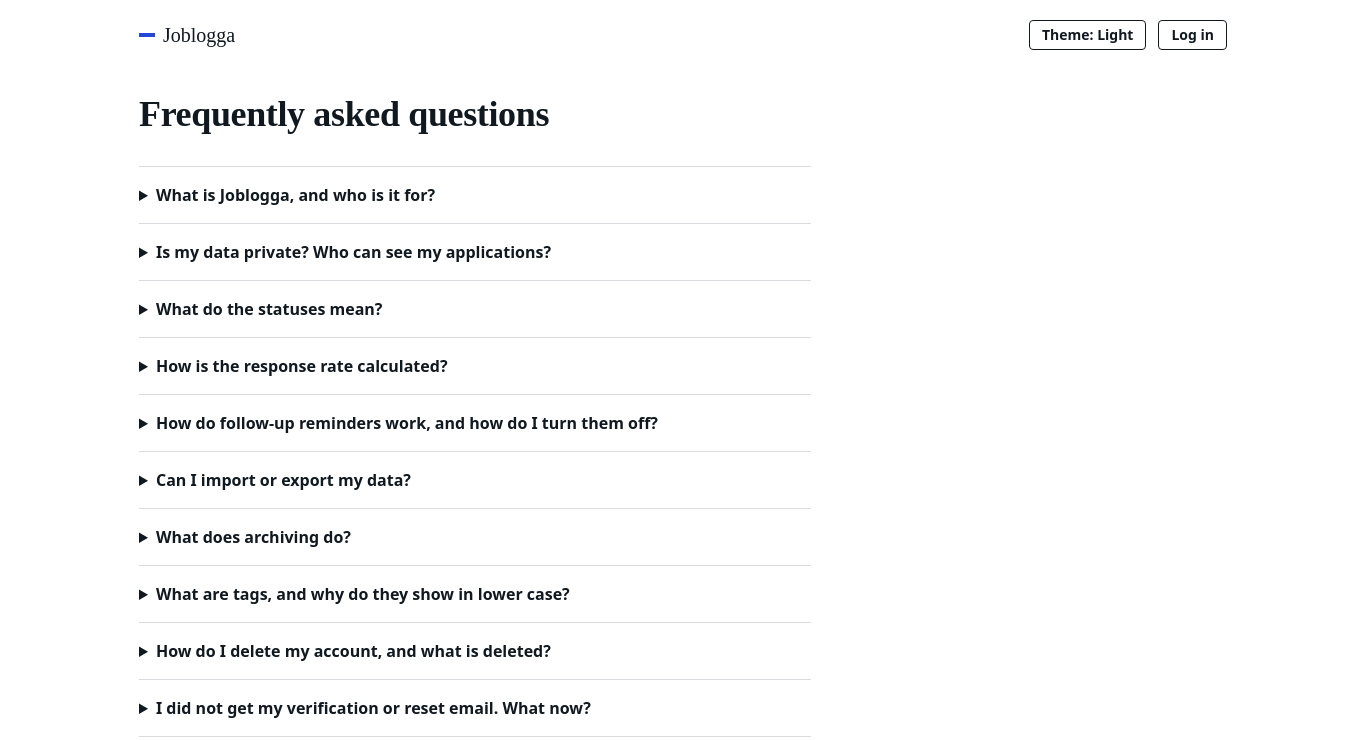
FAQ page at /faq › shows an answer when its question is opened, and keeps the others closed
Click the heading "How is the response rate calculated?".
click(302, 366)  # box [156,355,448,377]
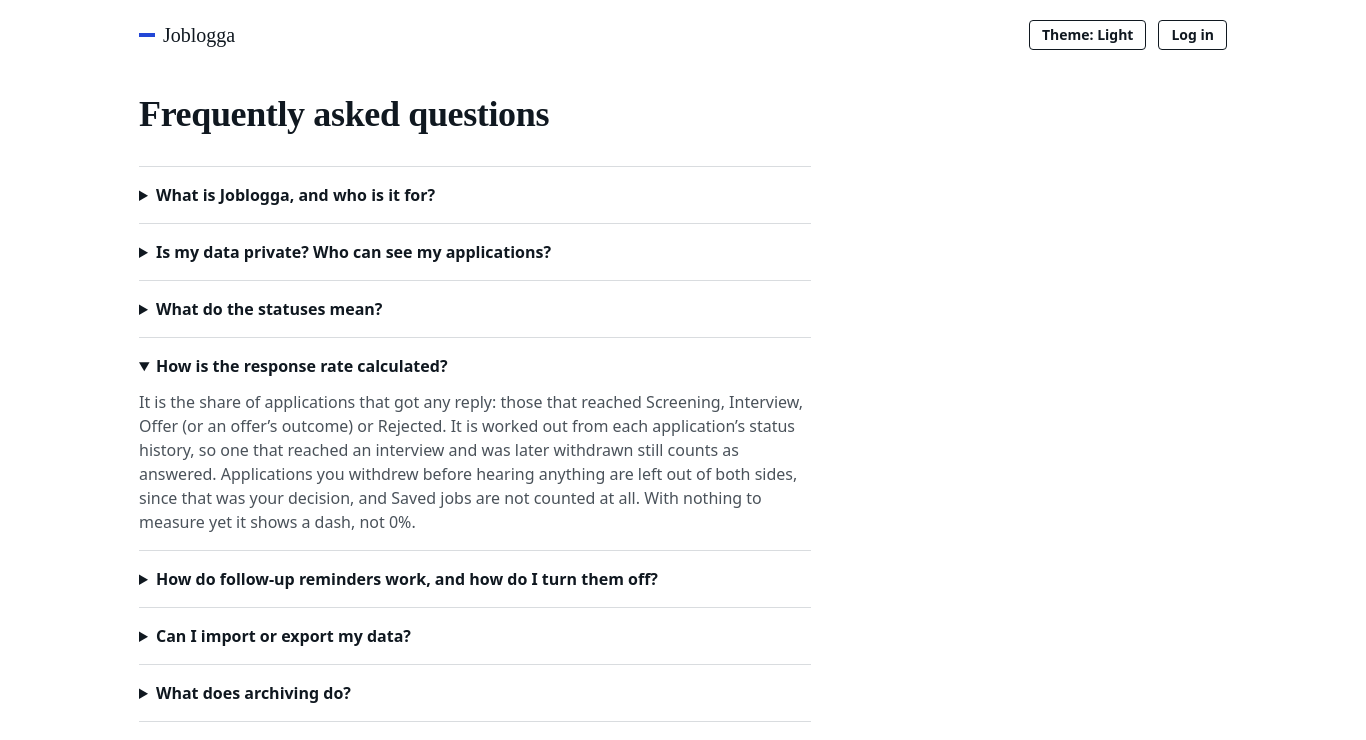
Expected: the text "How is the response rate calculated?" shows "withdrew before hearing anything are left out", [139,391,803,533]
